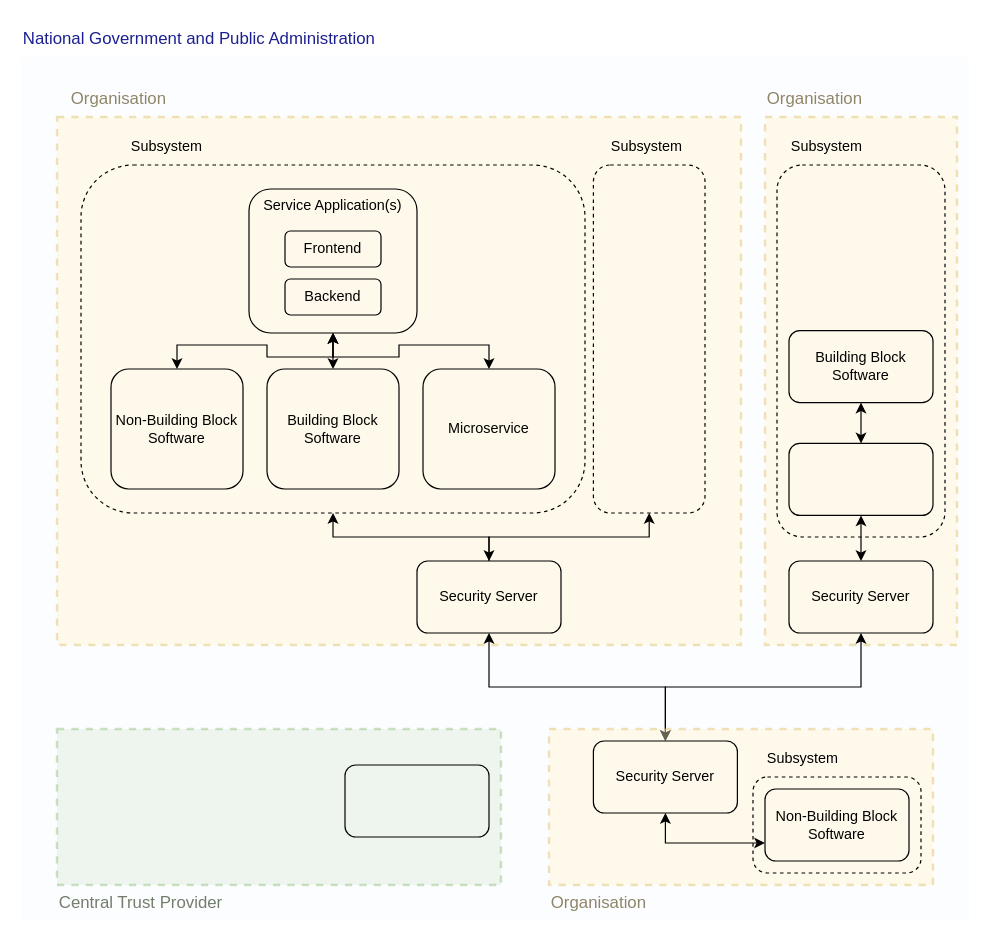
The diagram is 989 pixels wide and 941 high, and some of its shapes have lost their labels. Each missing label, with the centre of its shape:
"Adaptor" goes at point (860, 478).
"Information Mediator Services" goes at point (416, 800).
